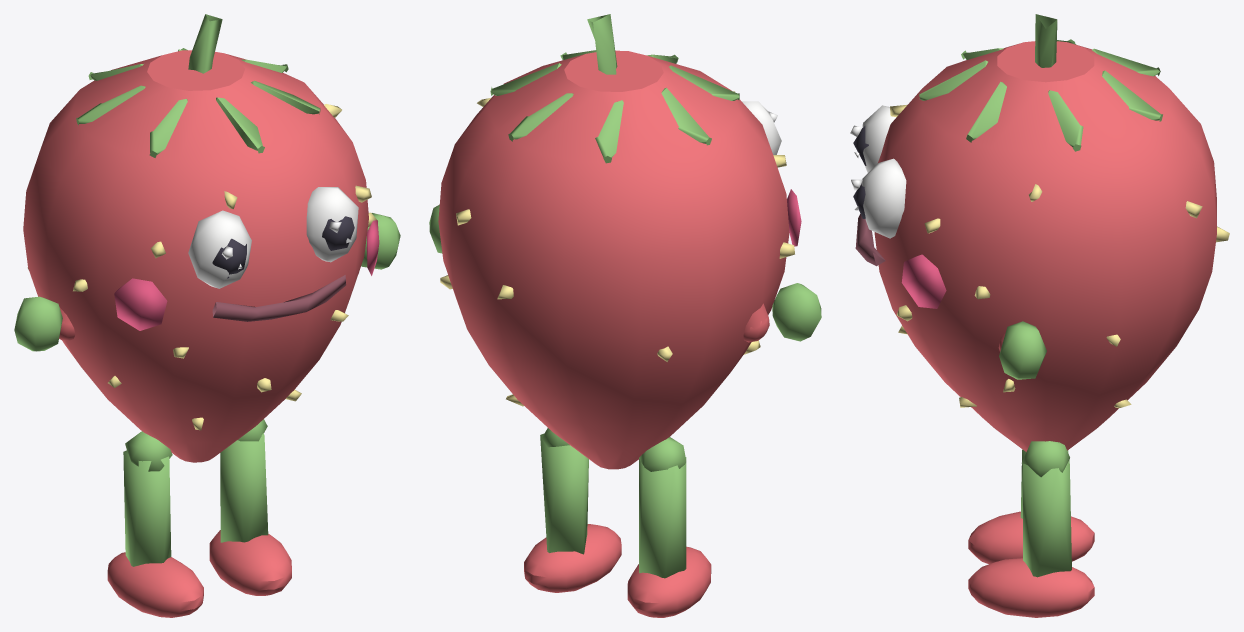
File: Strawberry.fbx
3 renders of one model, left to right at view 1: azimuth 30°, elevation 25°; view 2: azimuth 150°, elevation 25°; view 3: azimuth 270°, elevation 25°, orthographic.
Visible parts, largest first — view 1: EX_Strawberry; view 2: EX_Strawberry; view 3: EX_Strawberry.
Part boxes in pixels (x1,y1,x2,y2): EX_Strawberry: (14, 14, 400, 617); EX_Strawberry: (429, 14, 821, 617); EX_Strawberry: (850, 14, 1229, 617).
Bounding box in the file's own units: 157 × 222 × 132.
